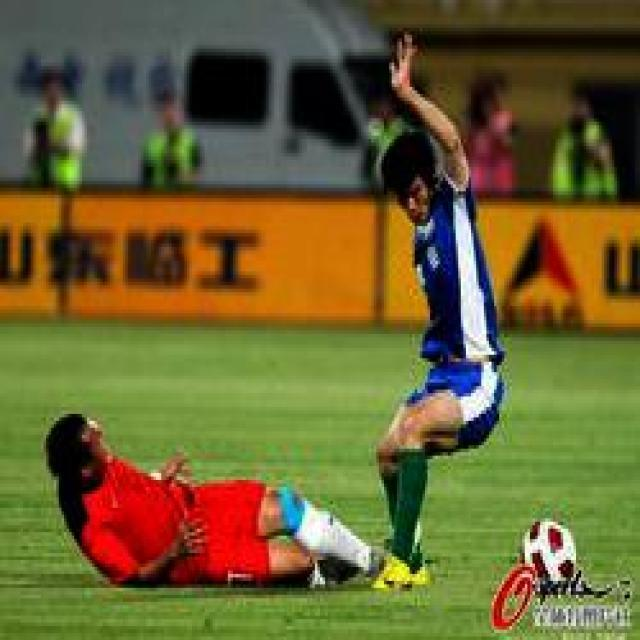fall: (36, 404, 372, 592)
